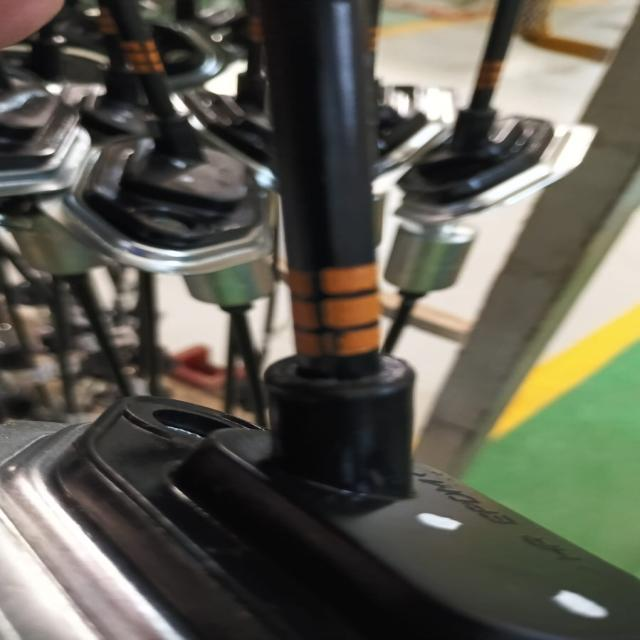orange: (285, 269, 389, 357)
